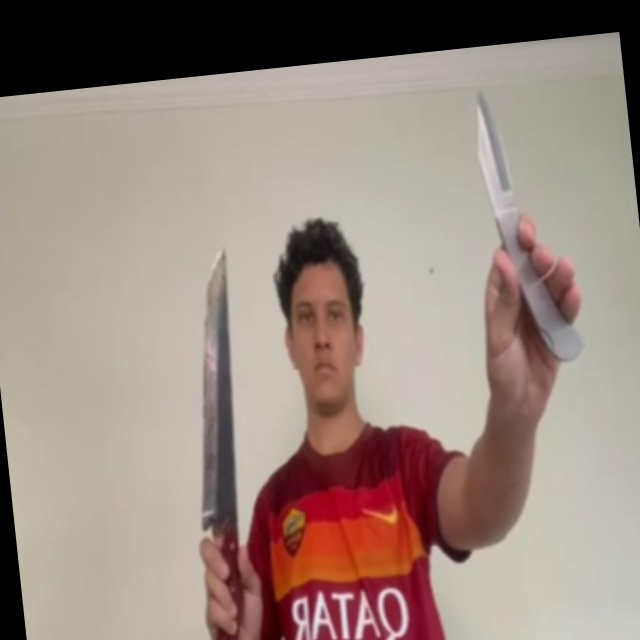Sharp-Object: (172, 246, 256, 537), (470, 87, 516, 216)
